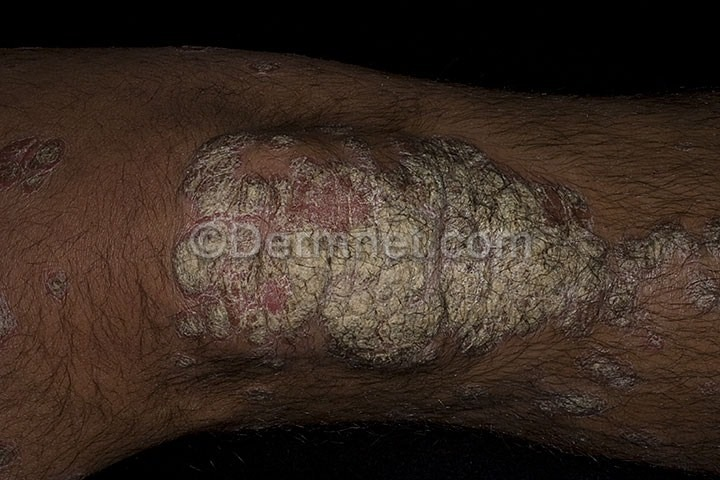Psoriasis: (169, 128, 596, 365), (610, 205, 720, 321)
